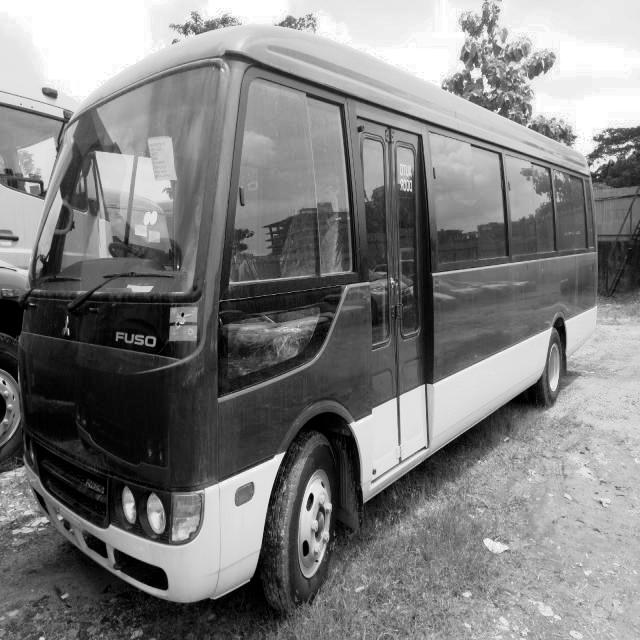Bus: (12, 18, 609, 626)
